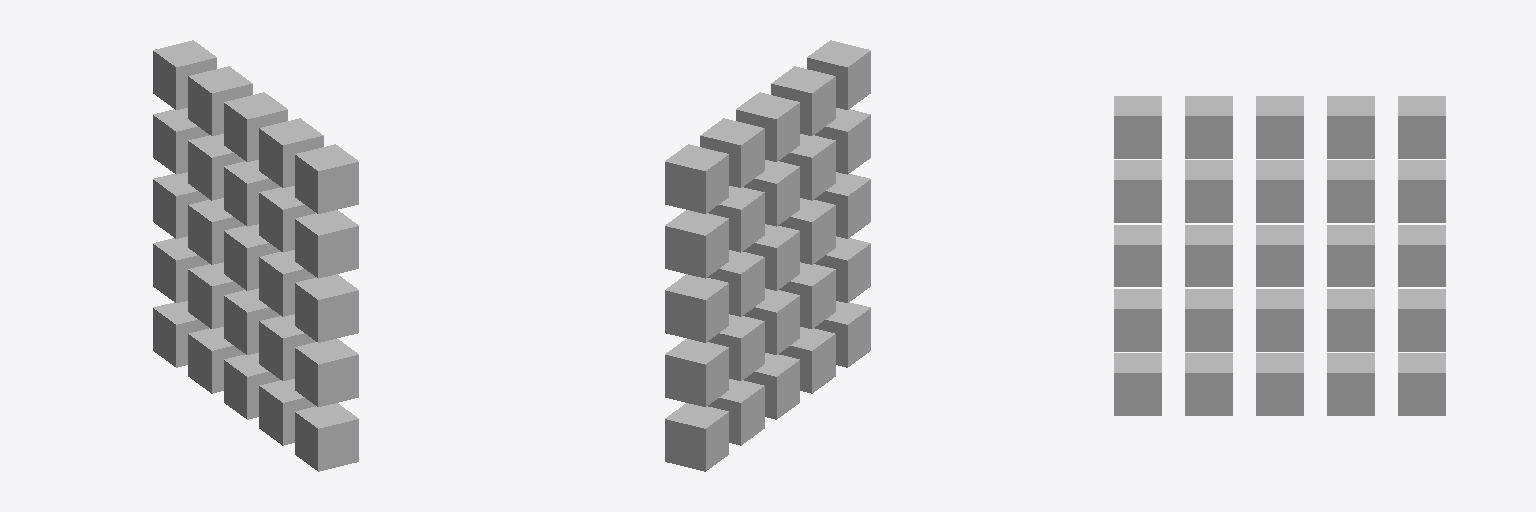
Rendered from Icon2DNominal.obj.
The picture shows the model from 3 angles: view 1: azimuth 30°, elevation 25°; view 2: azimuth 150°, elevation 25°; view 3: azimuth 270°, elevation 25°; orthographic projection.
Parts seen in each view (by area): view 1: Cube.003, Cube.004_Cube.022, Cube.002, Cube.000, Cube.001; view 2: Cube.003, Cube.004_Cube.022, Cube.002, Cube.000, Cube.001; view 3: Cube.003, Cube.002, Cube.000, Cube.004_Cube.022, Cube.001.
Boxes of the visible parts, <box> form: Cube.003: <box>153,40,358,213</box>; Cube.004_Cube.022: <box>153,301,358,471</box>; Cube.002: <box>153,108,358,278</box>; Cube.000: <box>153,236,358,406</box>; Cube.001: <box>153,172,358,342</box>; Cube.003: <box>665,40,870,213</box>; Cube.004_Cube.022: <box>665,301,870,471</box>; Cube.002: <box>665,108,870,278</box>; Cube.000: <box>665,236,870,406</box>; Cube.001: <box>665,172,870,342</box>; Cube.003: <box>1114,96,1445,158</box>; Cube.002: <box>1114,160,1445,222</box>; Cube.000: <box>1114,289,1445,351</box>; Cube.004_Cube.022: <box>1114,353,1445,415</box>; Cube.001: <box>1114,225,1445,286</box>.
Bounding box in the file's own units: 0.2 × 1.4 × 1.4.